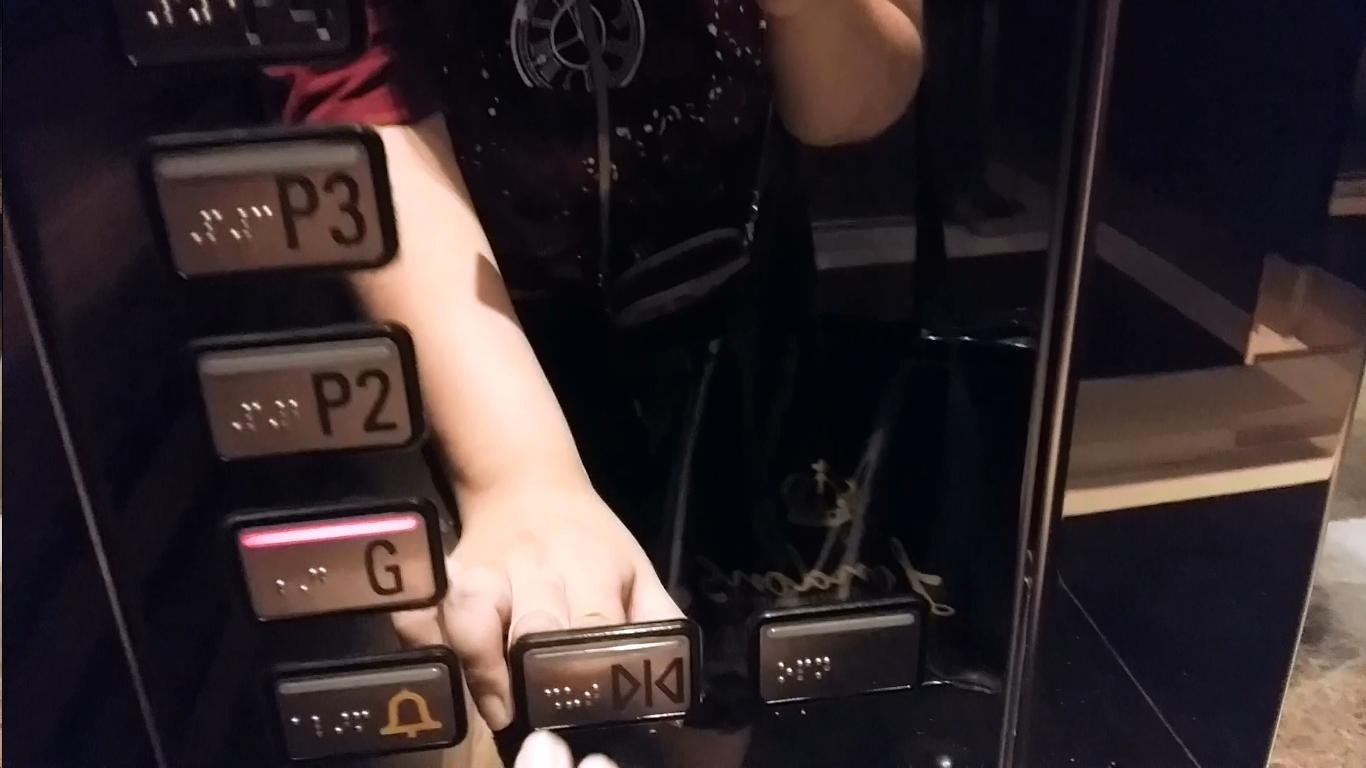G: (218, 489, 455, 635)
P2: (175, 317, 434, 470)
P3: (132, 115, 401, 290)
alarm: (255, 638, 475, 768)
close: (503, 610, 711, 739)
empty: (742, 591, 930, 711)
